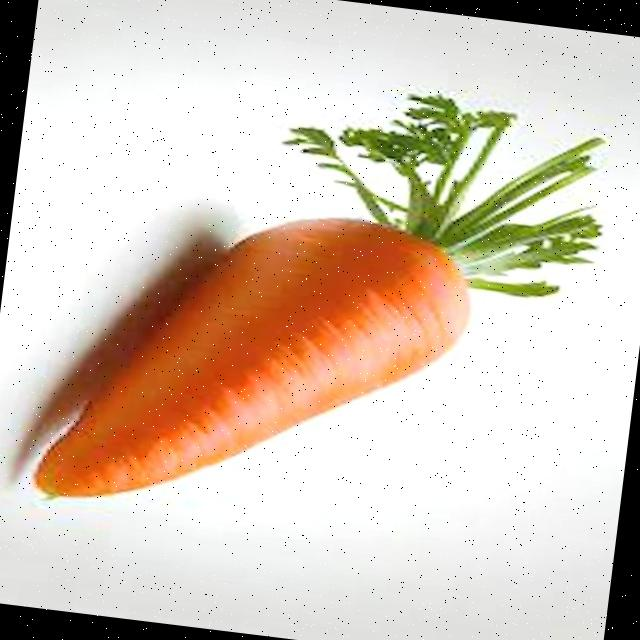carrot: (34, 96, 603, 497)
